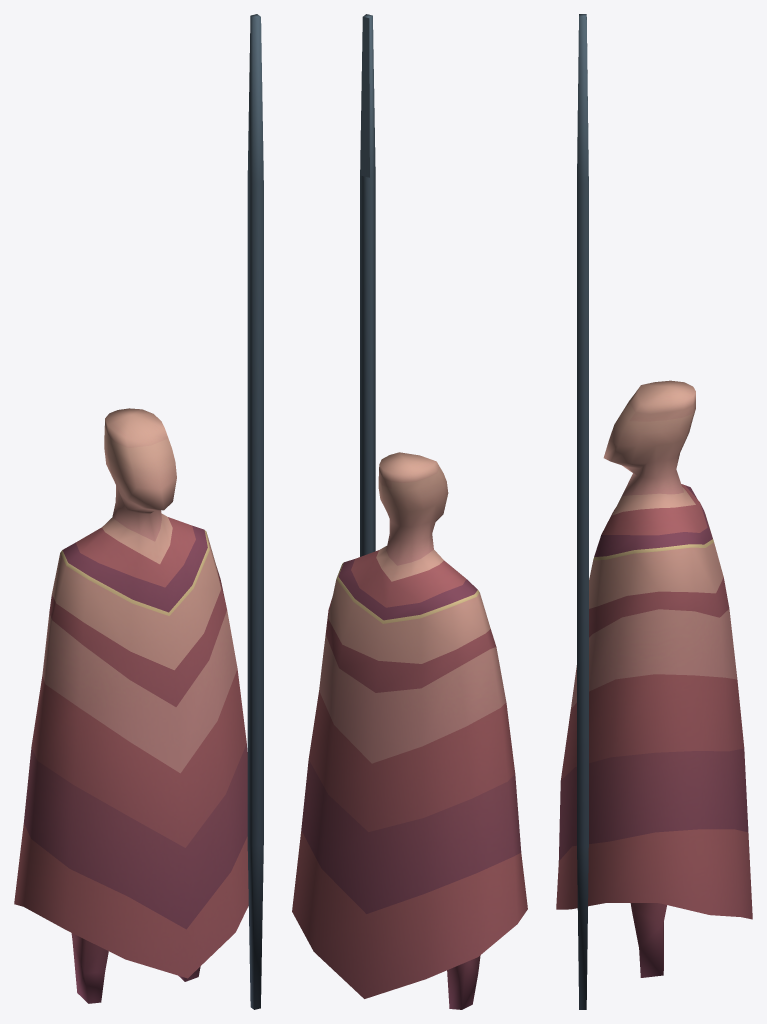
The model's file is Desert_Dude_01.fbx.
The picture shows the model from 3 angles, left to right: view 1: azimuth 30°, elevation 25°; view 2: azimuth 150°, elevation 25°; view 3: azimuth 270°, elevation 25°; orthographic projection. The views are drawn at different scales.
Parts seen in each view (by area): view 1: body, spear; view 2: body, spear; view 3: body, spear.
Boxes of the visible parts, x1=… form: body: x1=14, y1=408, x2=248, y2=1003; spear: x1=247, y1=14, x2=263, y2=1009; body: x1=292, y1=452, x2=527, y2=1009; spear: x1=360, y1=14, x2=375, y2=556; body: x1=556, y1=380, x2=752, y2=977; spear: x1=577, y1=14, x2=588, y2=1009.
Bounding box in the file's own units: 1.86 × 7.81 × 1.4.
Materials: 1 (1 with a texture image).
